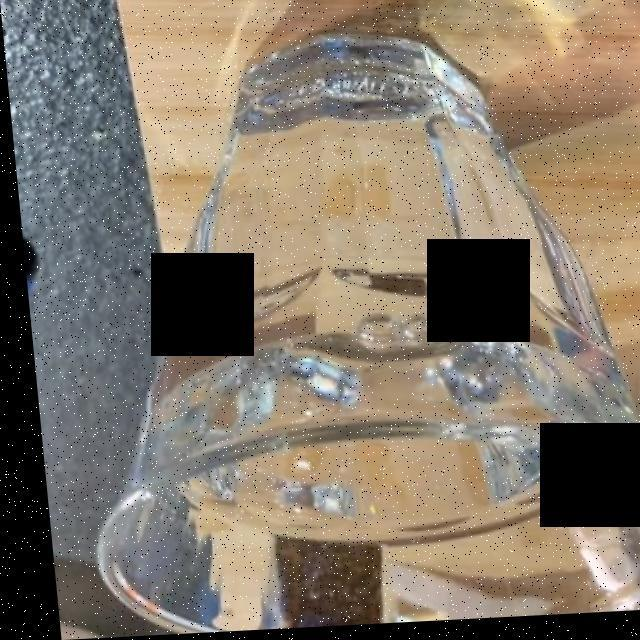water: (125, 63, 639, 565)
